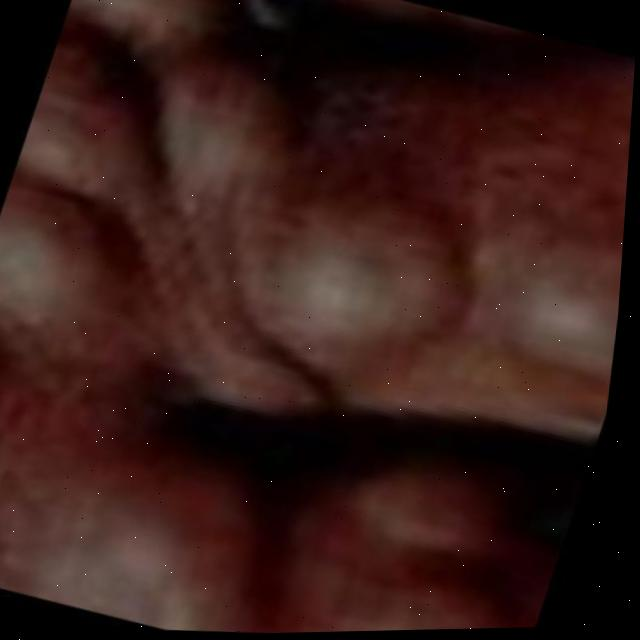Eczema: (103, 3, 639, 418)
